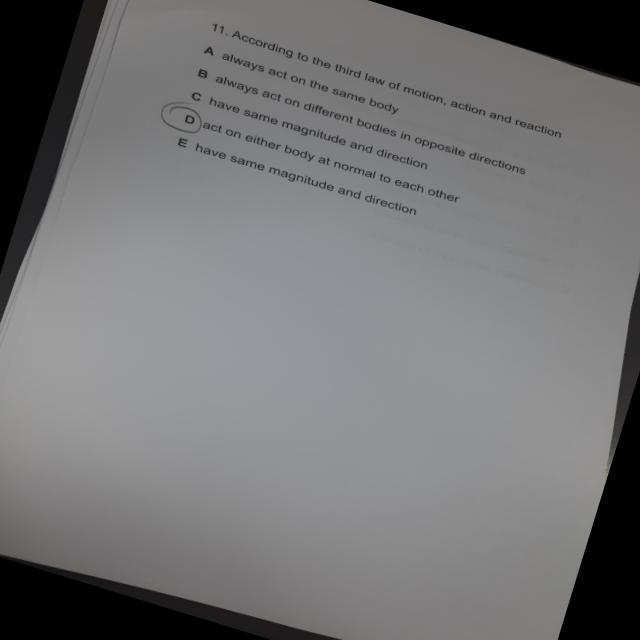D: (154, 96, 215, 140)
